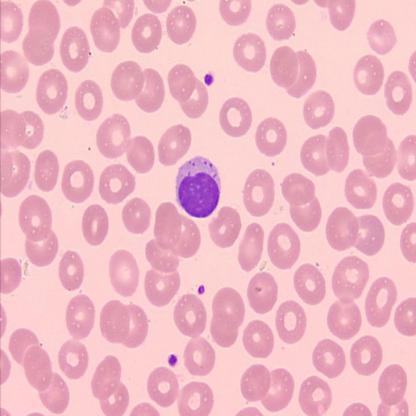Lymphocyte: (176, 156, 222, 218)
